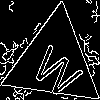W: (29, 36, 90, 100)
